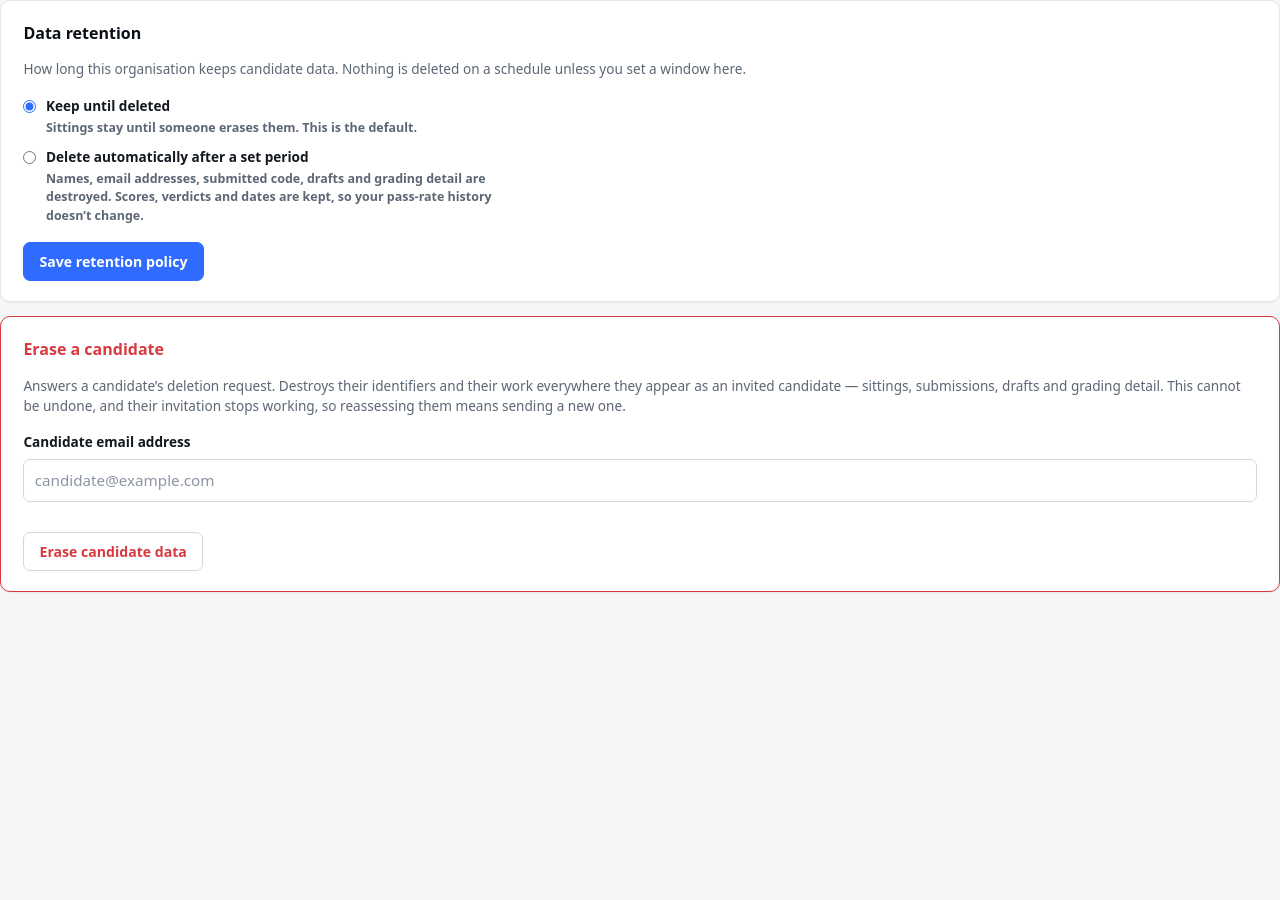
Test: erasure › editing the address disarms the confirmation
Step 1. Type "jane@example.com" into the field labelled "Candidate email address" → point(640, 480), box [23,459,1257,502]
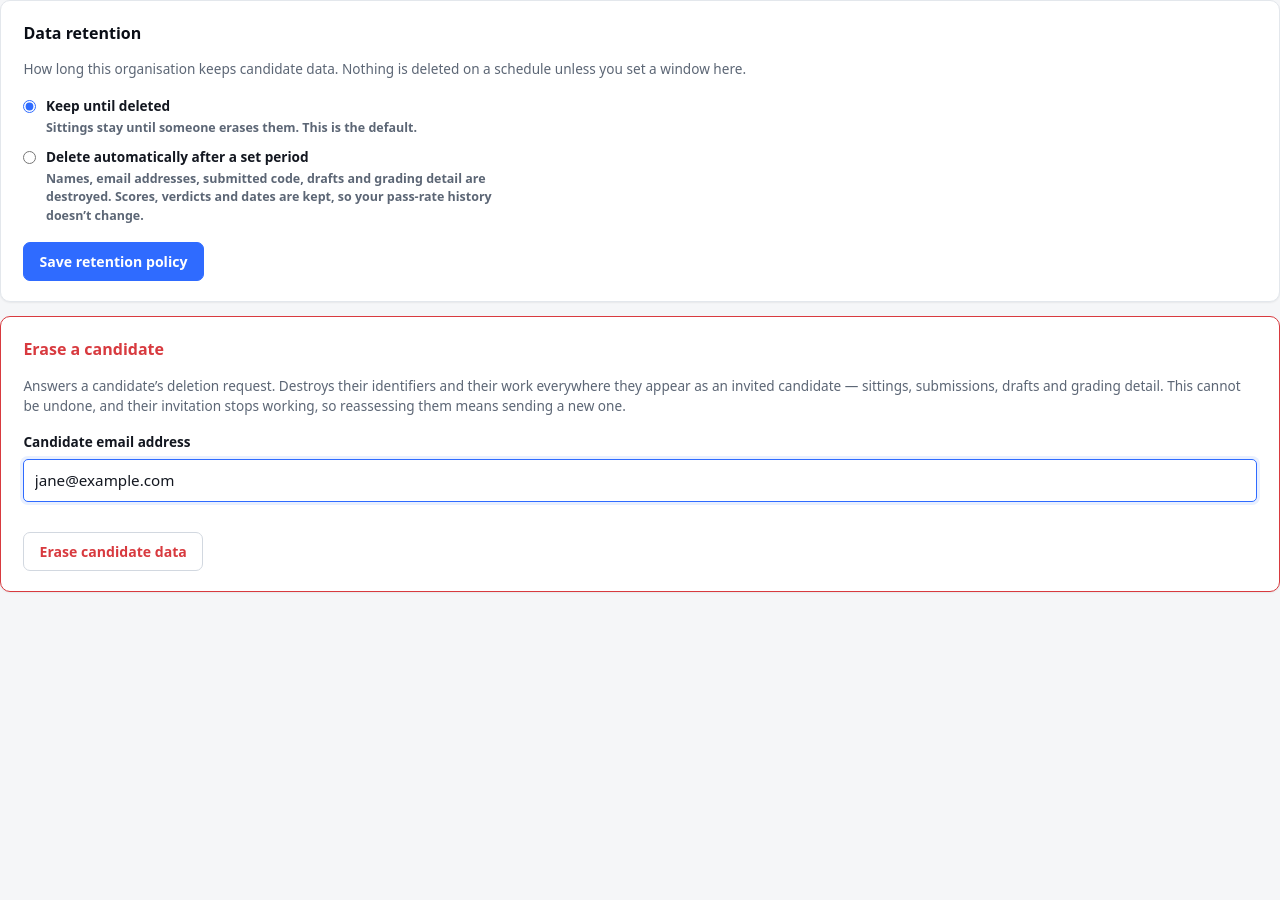
Step 2. Click the button "Erase candidate data" → point(113, 552), box [23,532,203,571]
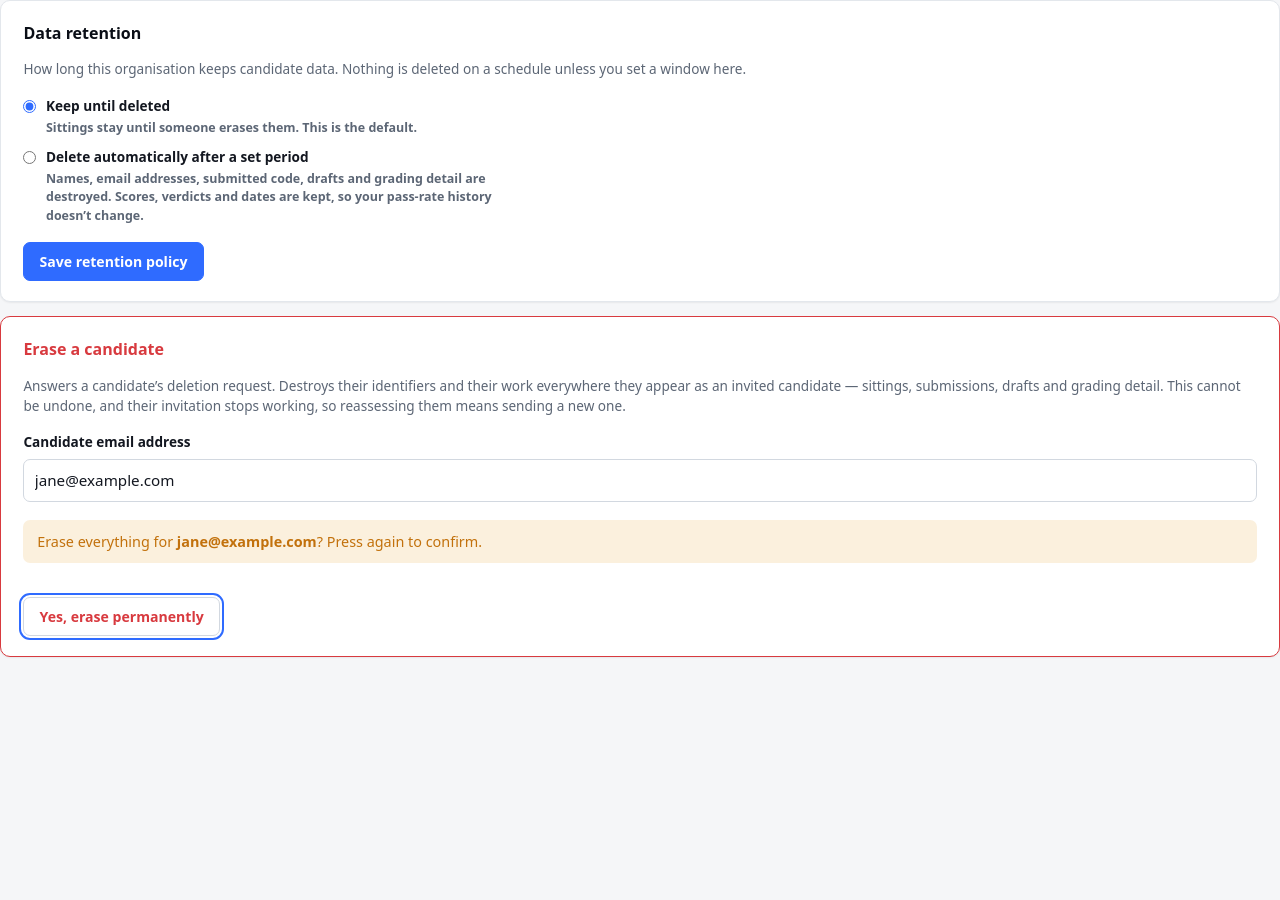
Step 3. Type "x" into the field labelled "Candidate email address" → point(640, 480), box [23,459,1257,502]
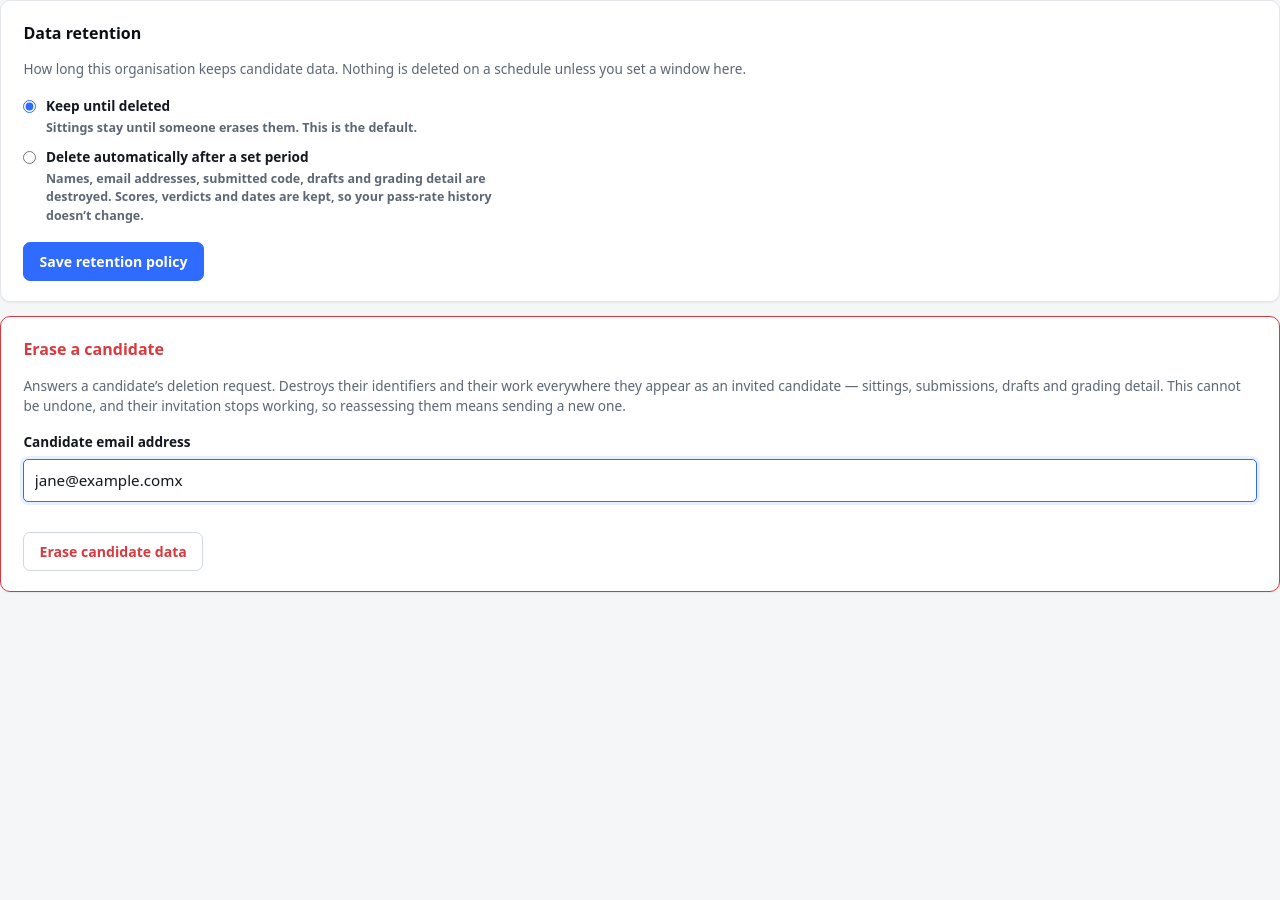
Check: the button "Erase candidate data" is shown, box [23,532,203,571]
